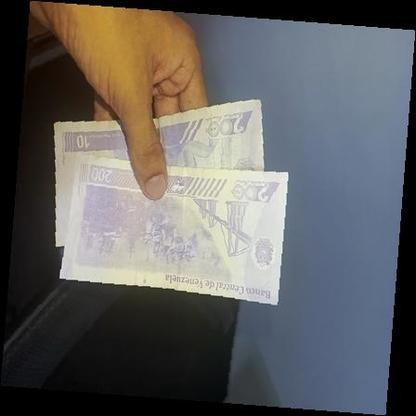two_hundred-back-vef: (58, 154, 288, 304)
